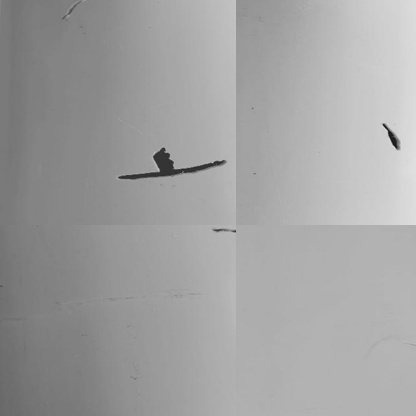kongdong: (113, 148, 225, 181), (382, 123, 404, 150)
